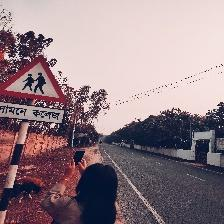College-in-front: (0, 26, 72, 142)
